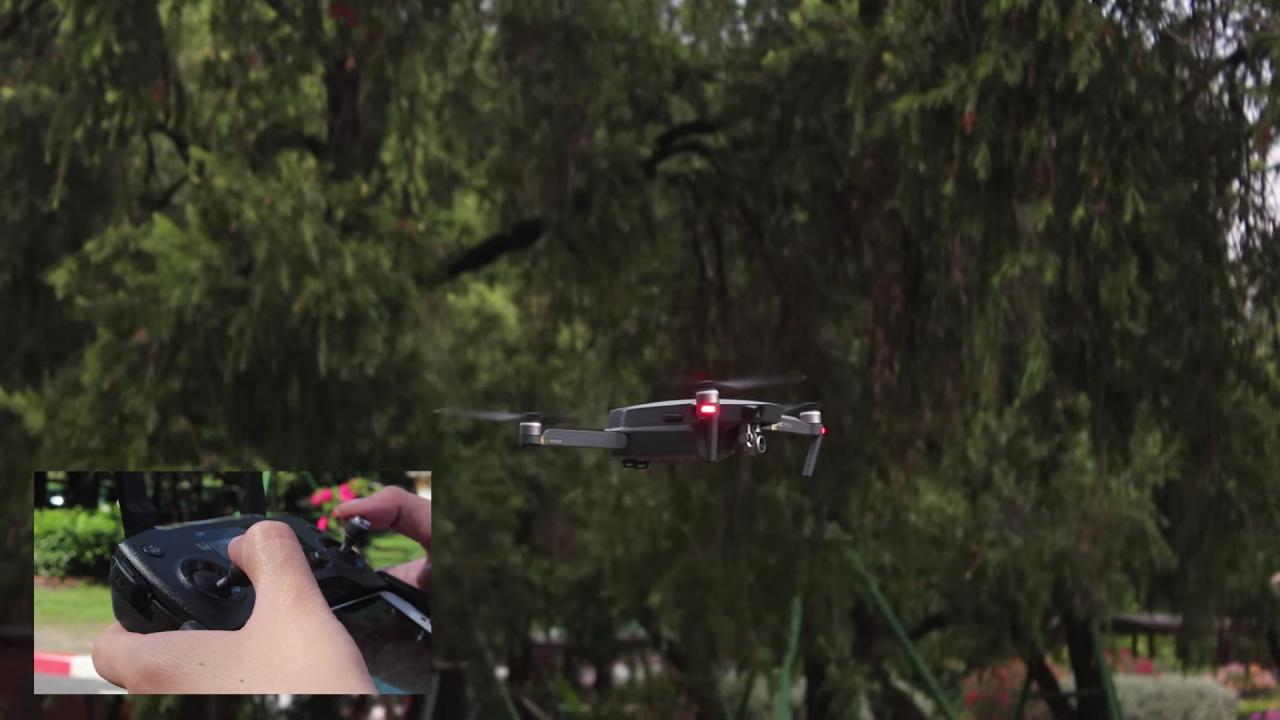Drone: (420, 358, 864, 493)
